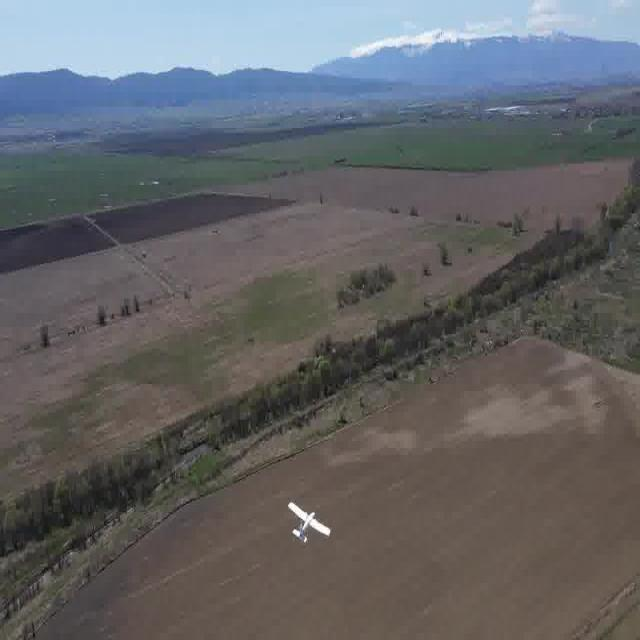iha: (283, 490, 331, 546)
